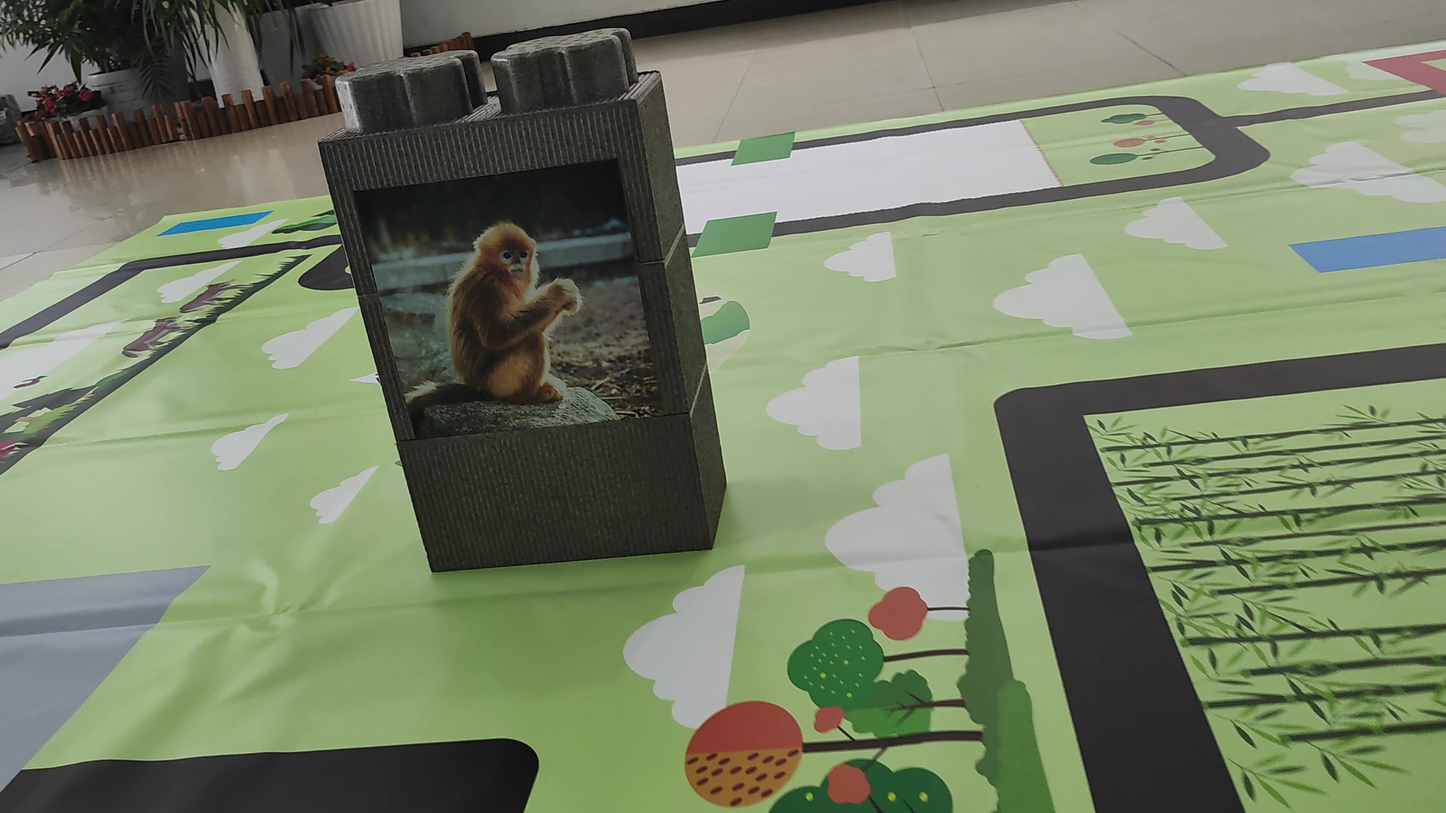monkey: (399, 201, 596, 434)
